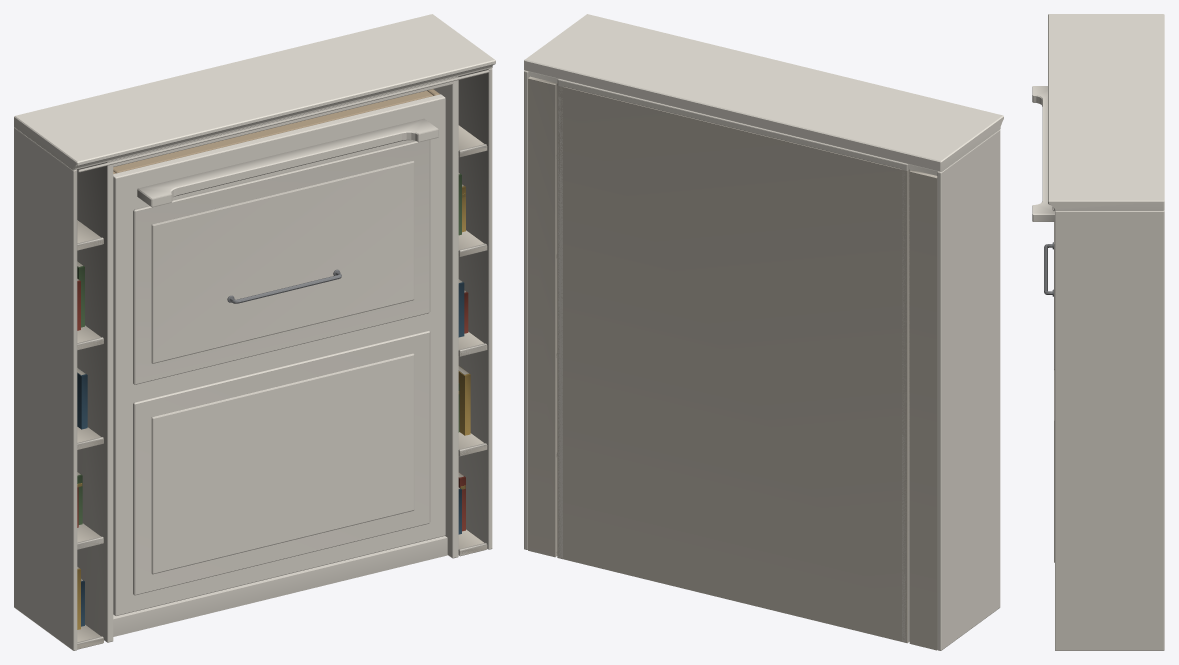
File: wallBed.glb
3 renders of one model, left to right at view 1: azimuth 30°, elevation 25°; view 2: azimuth 150°, elevation 25°; view 3: azimuth 270°, elevation 25°, orthographic. The views are drawn at different scales.
Visible parts, largest first — view 1: bed, cabinet; view 2: cabinet; view 3: cabinet, bed.
Boxes of the visible parts, x1=… form: bed: x1=113, y1=89, x2=445, y2=615; cabinet: x1=14, y1=14, x2=495, y2=650; cabinet: x1=524, y1=14, x2=1003, y2=650; cabinet: x1=1048, y1=14, x2=1164, y2=650; bed: x1=1032, y1=86, x2=1054, y2=562.
Bounding box in the file's own units: 1.98 × 2.22 × 0.59.
